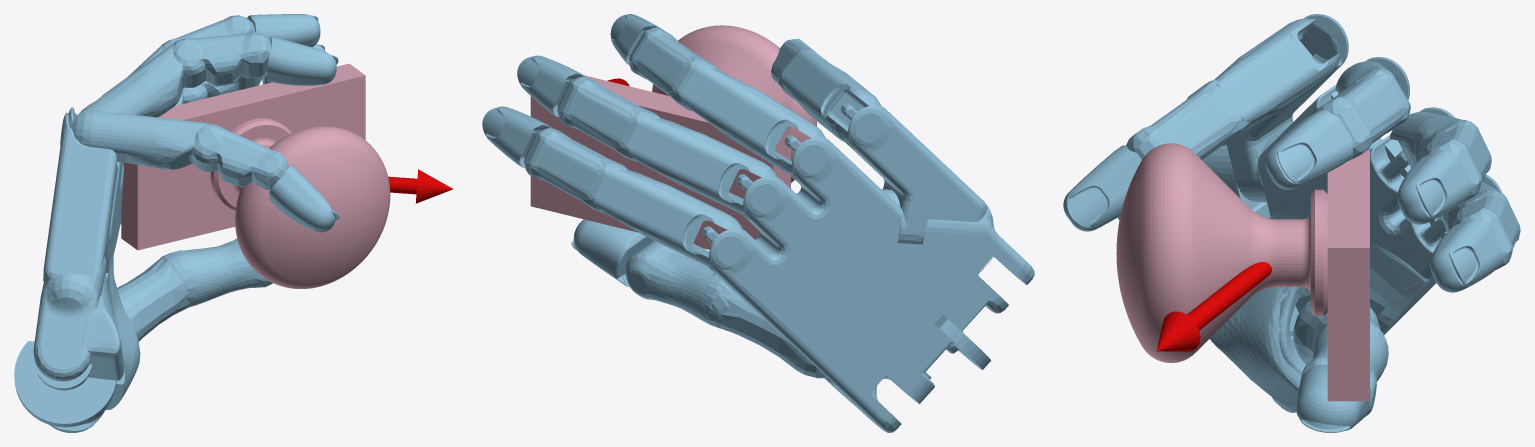
3 renders of one model, left to right at view 1: azimuth 30°, elevation 25°; view 2: azimuth 150°, elevation 25°; view 3: azimuth 270°, elevation 25°, orthographic. The views are drawn at different scales.
Parts seen in each view (by area): view 1: world, door_knob.stl; view 2: world, door_knob.stl; view 3: world, door_knob.stl.
Part boxes in pixels (box(x1,y1,x2,y2)): world: box(14, 14, 453, 432); door_knob.stl: box(121, 63, 390, 288); world: box(482, 14, 1034, 432); door_knob.stl: box(530, 25, 816, 249); world: box(1063, 14, 1520, 432); door_knob.stl: box(1116, 143, 1369, 401).
Size of the model in its own units: 0.1809 by 0.1418 by 0.1352.
